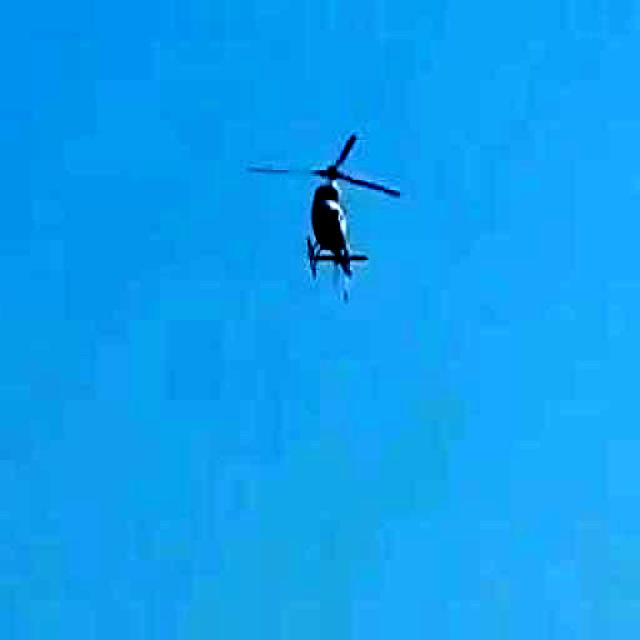drone: (251, 131, 412, 315)
